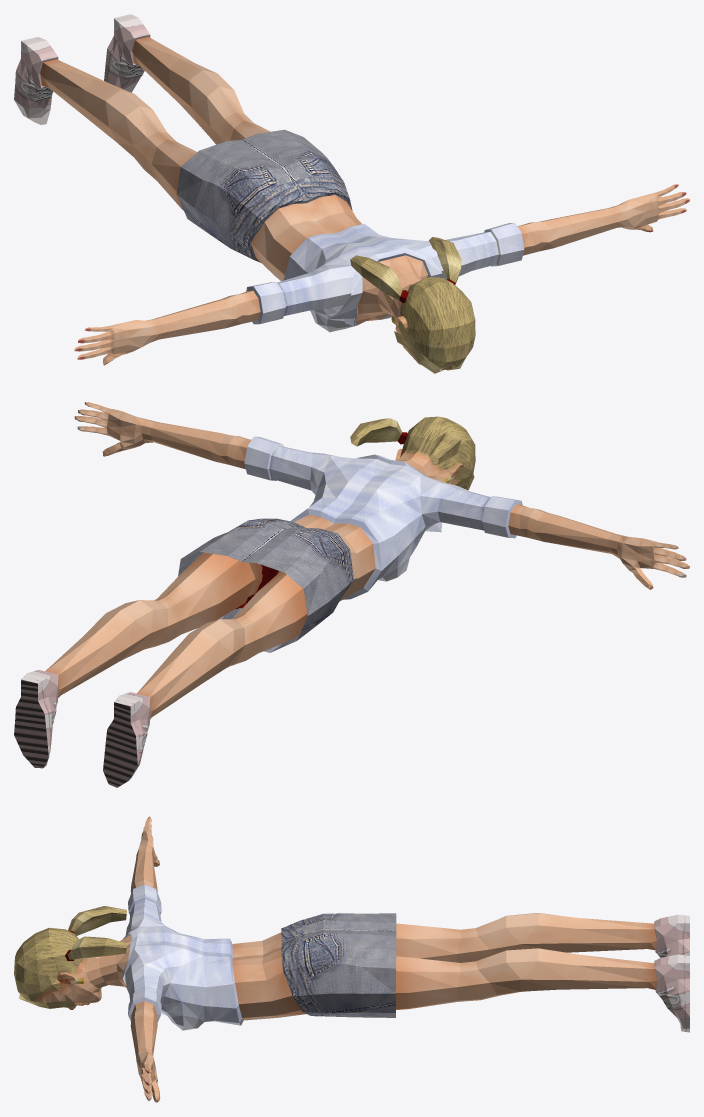
File: tomdrinwoman5_3k_wtf.obj
3 renders of one model, top to bottom at view 1: azimuth 30°, elevation 25°; view 2: azimuth 150°, elevation 25°; view 3: azimuth 270°, elevation 25°, orthographic. The views are drawn at different scales.
Parts seen in each view (by area): view 1: group1; view 2: group1; view 3: group1.
Boxes of the visible parts, x1,y1,x2,y2 form: group1: (14,14,689,373); group1: (14,402,689,787); group1: (14,816,689,1102).
Size of the model in its own units: 613 by 105 by 660.
